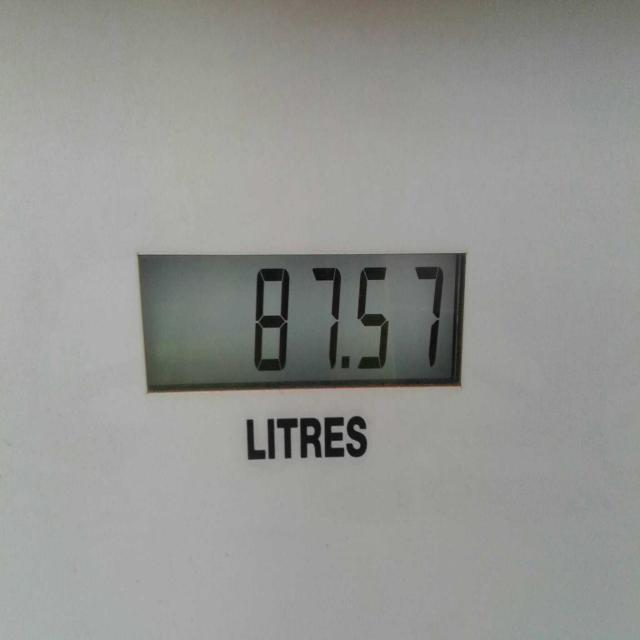.: (338, 342, 358, 390)
5: (348, 262, 396, 388)
7: (406, 258, 446, 368), (307, 263, 345, 372)
8: (248, 266, 296, 378)
